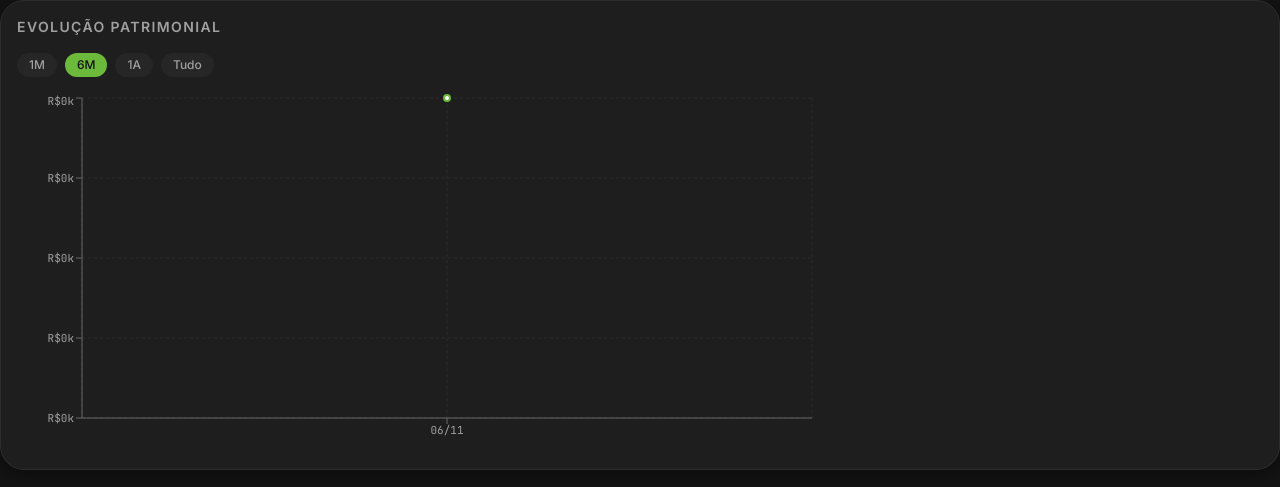
Test: EvolutionLine › série longa: distingue pré/pós-2010 e marca o início da série ajustada
Click the button "Tudo": (187, 65) 161,53 -> 214,77
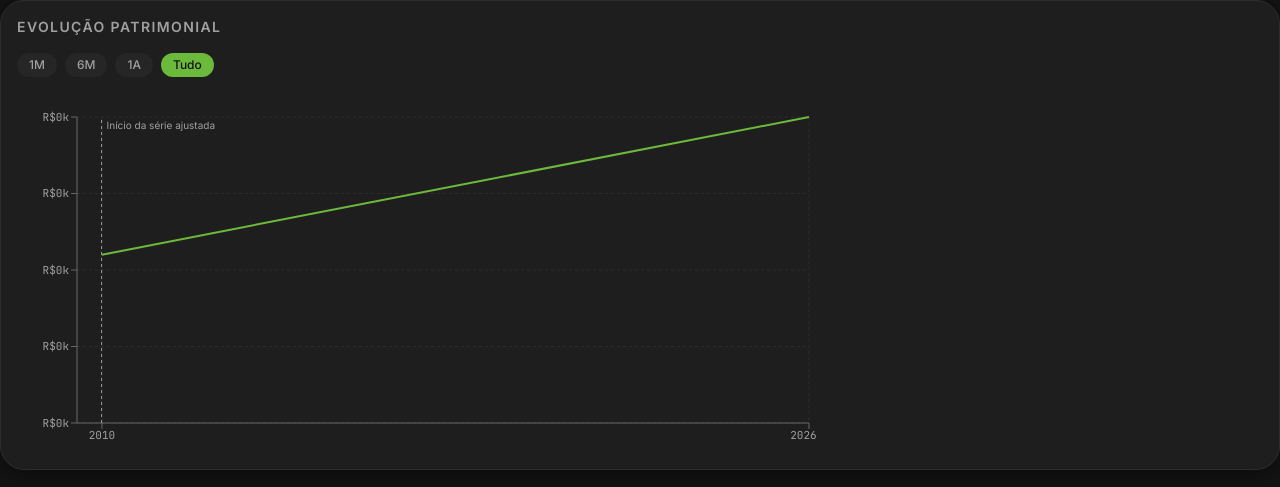
Expected: the element with id "6cba3b" is shown, 102,117 -> 809,255
Expected: the text "Início da série ajustada" is shown, 107,119 -> 215,131
